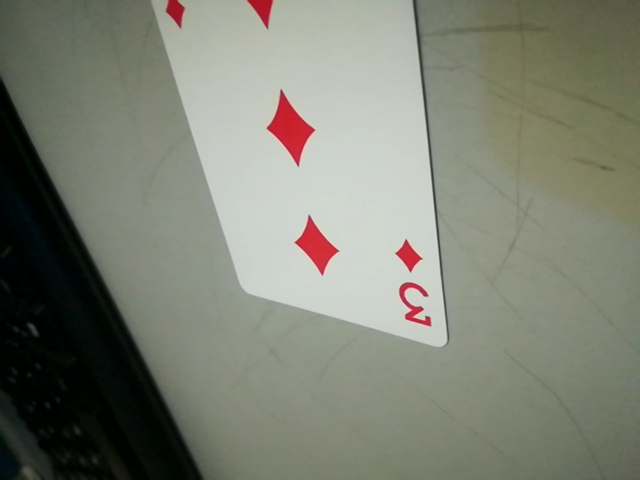fk 3: (384, 232, 439, 340)
